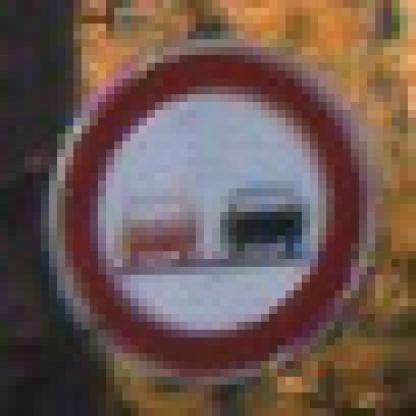No Overtaking: (50, 40, 376, 378)
